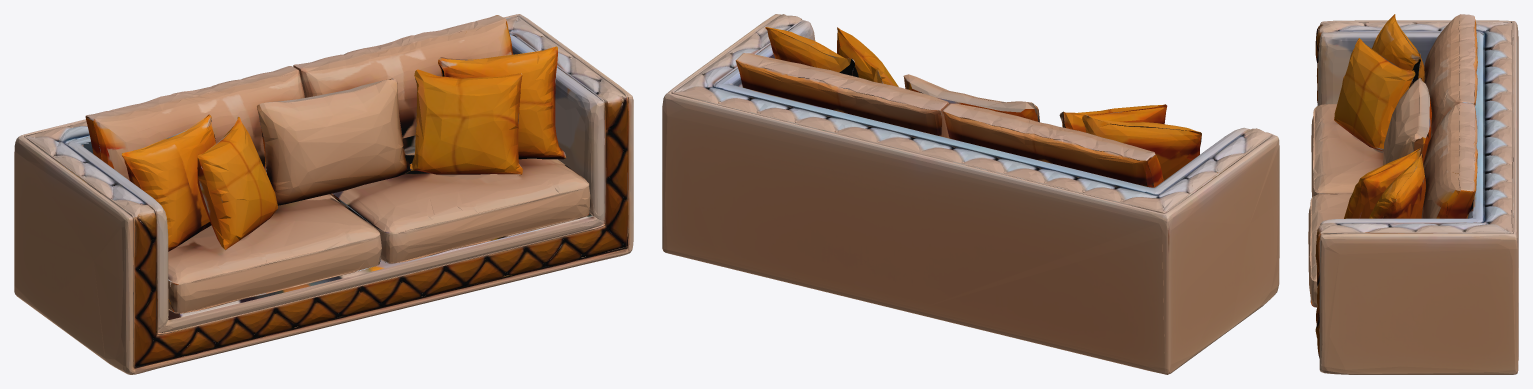
The model's file is edited_mesh.glb.
3 renders of one model, left to right at view 1: azimuth 30°, elevation 25°; view 2: azimuth 150°, elevation 25°; view 3: azimuth 270°, elevation 25°, orthographic. The views are drawn at different scales.
Parts seen in each view (by area): view 1: solid_001_wire; view 2: solid_001_wire; view 3: solid_001_wire.
Part boxes in pixels (x1,y1,x2,y2): solid_001_wire: (14, 14, 633, 374); solid_001_wire: (662, 14, 1279, 374); solid_001_wire: (1308, 14, 1518, 374).
Bounding box in the file's own units: 2 × 0.7095 × 0.8163.
1 material, 1 textured.
